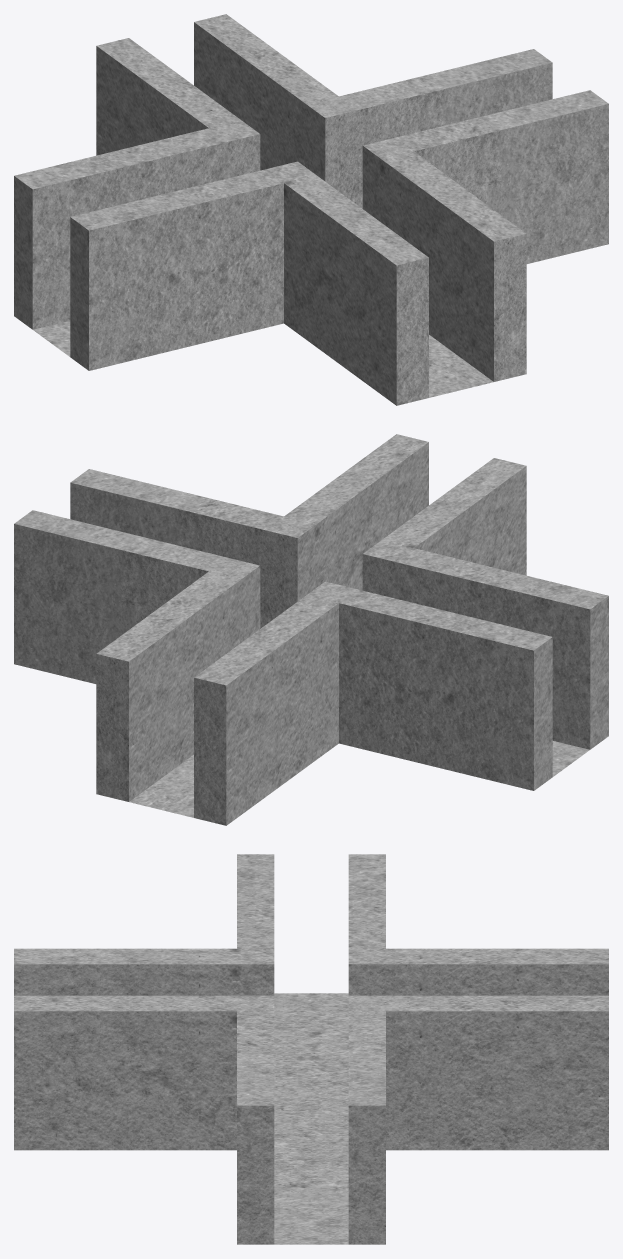
Rendered from 1x1crossroadsTextured.fbx.
The picture shows the model from 3 angles, top to bottom: view 1: azimuth 30°, elevation 25°; view 2: azimuth 150°, elevation 25°; view 3: azimuth 270°, elevation 25°; orthographic projection.
Parts seen in each view (by area): view 1: Plane.002; view 2: Plane.002; view 3: Plane.002.
Boxes of the visible parts, bbox=[...] form: Plane.002: bbox=[14, 14, 608, 405]; Plane.002: bbox=[14, 434, 608, 825]; Plane.002: bbox=[14, 854, 608, 1244].
Size of the model in its own units: 50 by 12.9 by 50.
Materials: 1 (1 with a texture image).
